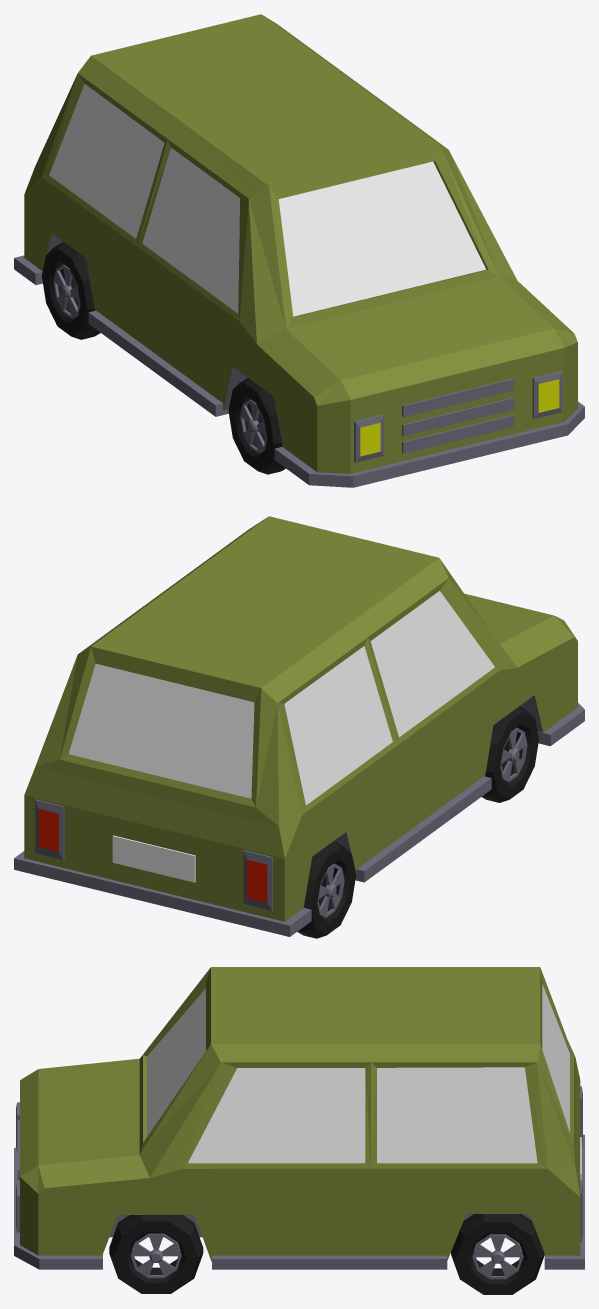
Rendered from Green_SUV.fbx.
The picture shows the model from 3 angles, top to bottom: view 1: azimuth 30°, elevation 25°; view 2: azimuth 150°, elevation 25°; view 3: azimuth 270°, elevation 25°; orthographic projection. The views are drawn at different scales.
Parts seen in each view (by area): view 1: Main Body.001, SUV Back Wheels.001, SUV Front.R Wheel.001, Lights.001; view 2: Main Body.001, SUV Front.R Wheel.001, SUV Back Wheels.001, Lights.001; view 3: Main Body.001, SUV Front.L Wheel.001, SUV Back Wheels.001, Lights.001.
Boxes of the visible parts, box(x1,y1,x2,y2) form: Main Body.001: box(14, 14, 584, 487); SUV Back Wheels.001: box(42, 242, 100, 339); SUV Front.R Wheel.001: box(228, 378, 285, 474); Lights.001: box(354, 371, 562, 462); Main Body.001: box(14, 516, 584, 936); SUV Front.R Wheel.001: box(482, 706, 538, 802); SUV Back Wheels.001: box(297, 840, 356, 938); Lights.001: box(35, 799, 272, 910); Main Body.001: box(14, 967, 584, 1269); SUV Front.L Wheel.001: box(109, 1215, 203, 1293); SUV Back Wheels.001: box(451, 1214, 544, 1294); Lights.001: box(16, 1086, 582, 1241).
Bounding box in the file's own units: 518 × 452 × 1004.
